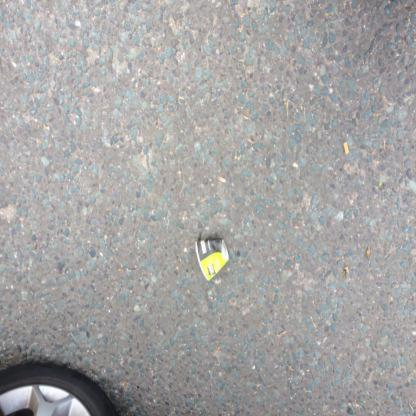Cup: (195, 239, 228, 281)
